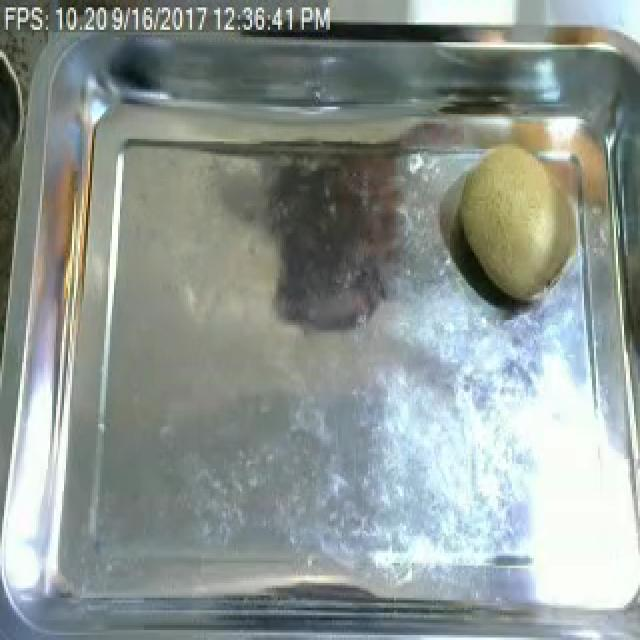Fruit: (446, 121, 612, 312)
